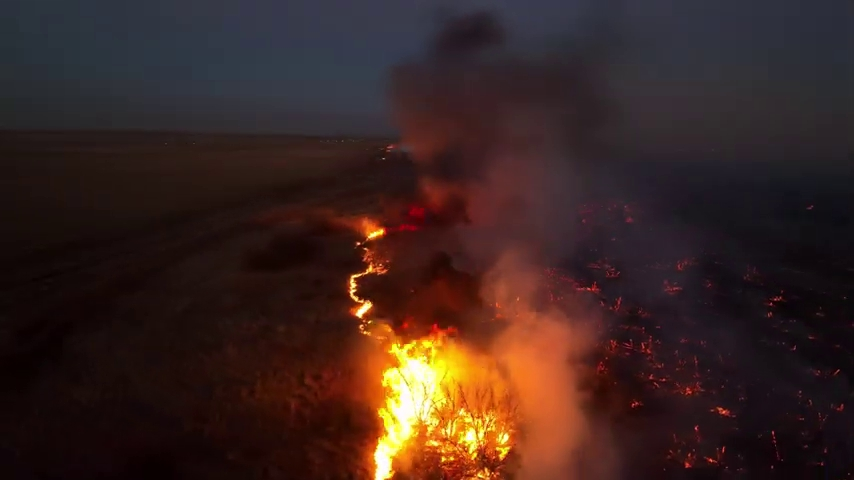forest_fire: (348, 227, 514, 479)
